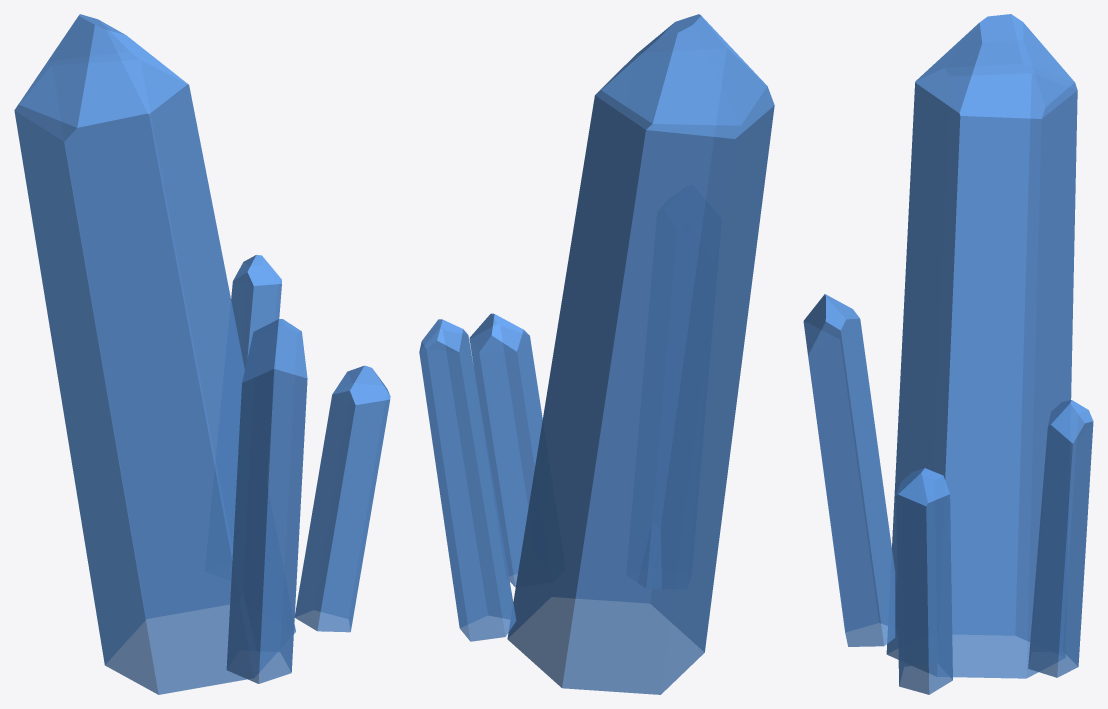
Rendered from Crystals_l_06 2.fbx.
The picture shows the model from 3 angles, left to right: view 1: azimuth 30°, elevation 25°; view 2: azimuth 150°, elevation 25°; view 3: azimuth 270°, elevation 25°; orthographic projection. The views are drawn at different scales.
Visible parts, largest first — view 1: Crystals_l_06; view 2: Crystals_l_06; view 3: Crystals_l_06.
Boxes of the visible parts, x1=… form: Crystals_l_06: x1=14, y1=14, x2=390, y2=694; Crystals_l_06: x1=419, y1=14, x2=774, y2=694; Crystals_l_06: x1=803, y1=14, x2=1093, y2=694.
Size of the model in its own units: 146 by 289 by 125.
